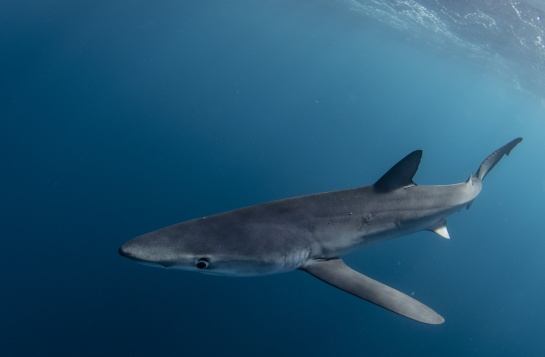Azul: (113, 114, 526, 341)
